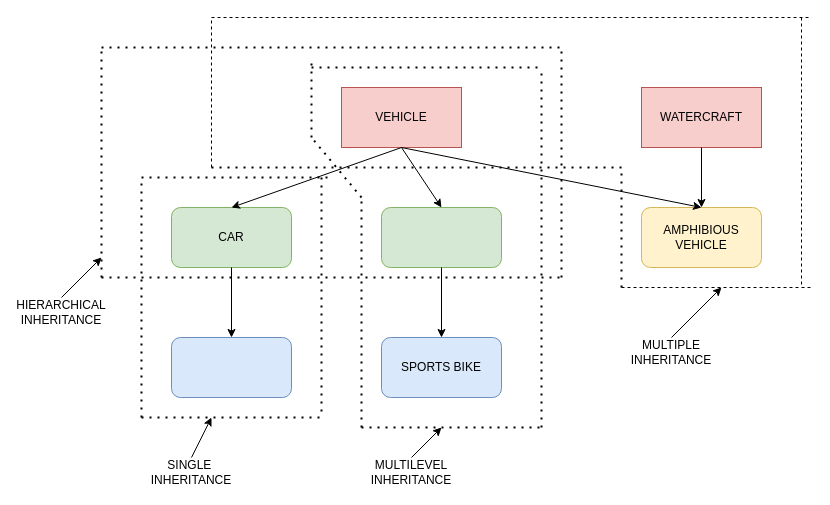
This 830x505 diagram has some shape labels left out. Each missing label, with the centre of its shape:
BIKE: the point at 441,237
SPORTS CAR: the point at 231,367
